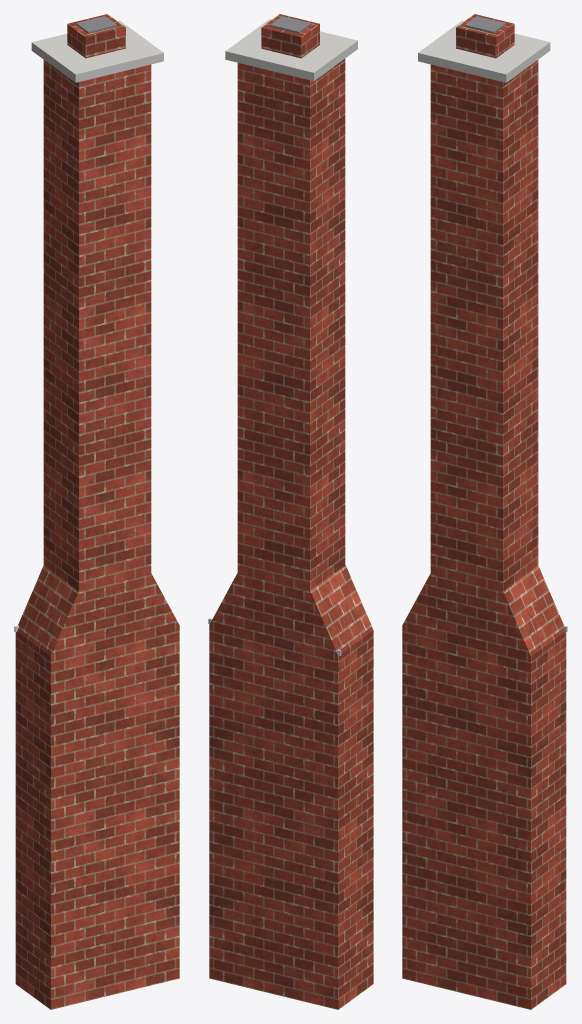
Rendered from chimney_exterior.glb.
The picture shows the model from 3 angles, left to right: view 1: azimuth 30°, elevation 25°; view 2: azimuth 150°, elevation 25°; view 3: azimuth 330°, elevation 25°; orthographic projection.
Visible parts, largest first — view 1: chimney_exterior_brick, chimney_exterior_concrete, chimney_exterior_dark; view 2: chimney_exterior_brick, chimney_exterior_concrete, chimney_exterior_dark; view 3: chimney_exterior_brick, chimney_exterior_concrete, chimney_exterior_dark.
Boxes of the visible parts, <box> form: chimney_exterior_brick: <box>15,14,179,1009</box>; chimney_exterior_concrete: <box>14,20,163,631</box>; chimney_exterior_dark: <box>76,16,116,33</box>; chimney_exterior_brick: <box>209,14,373,1009</box>; chimney_exterior_concrete: <box>208,19,357,655</box>; chimney_exterior_dark: <box>270,16,311,33</box>; chimney_exterior_brick: <box>402,14,566,1009</box>; chimney_exterior_concrete: <box>418,20,567,631</box>; chimney_exterior_dark: <box>465,16,505,33</box>.
Size of the model in its own units: 1.64 by 11.37 by 0.95.
3 materials, 1 textured.
